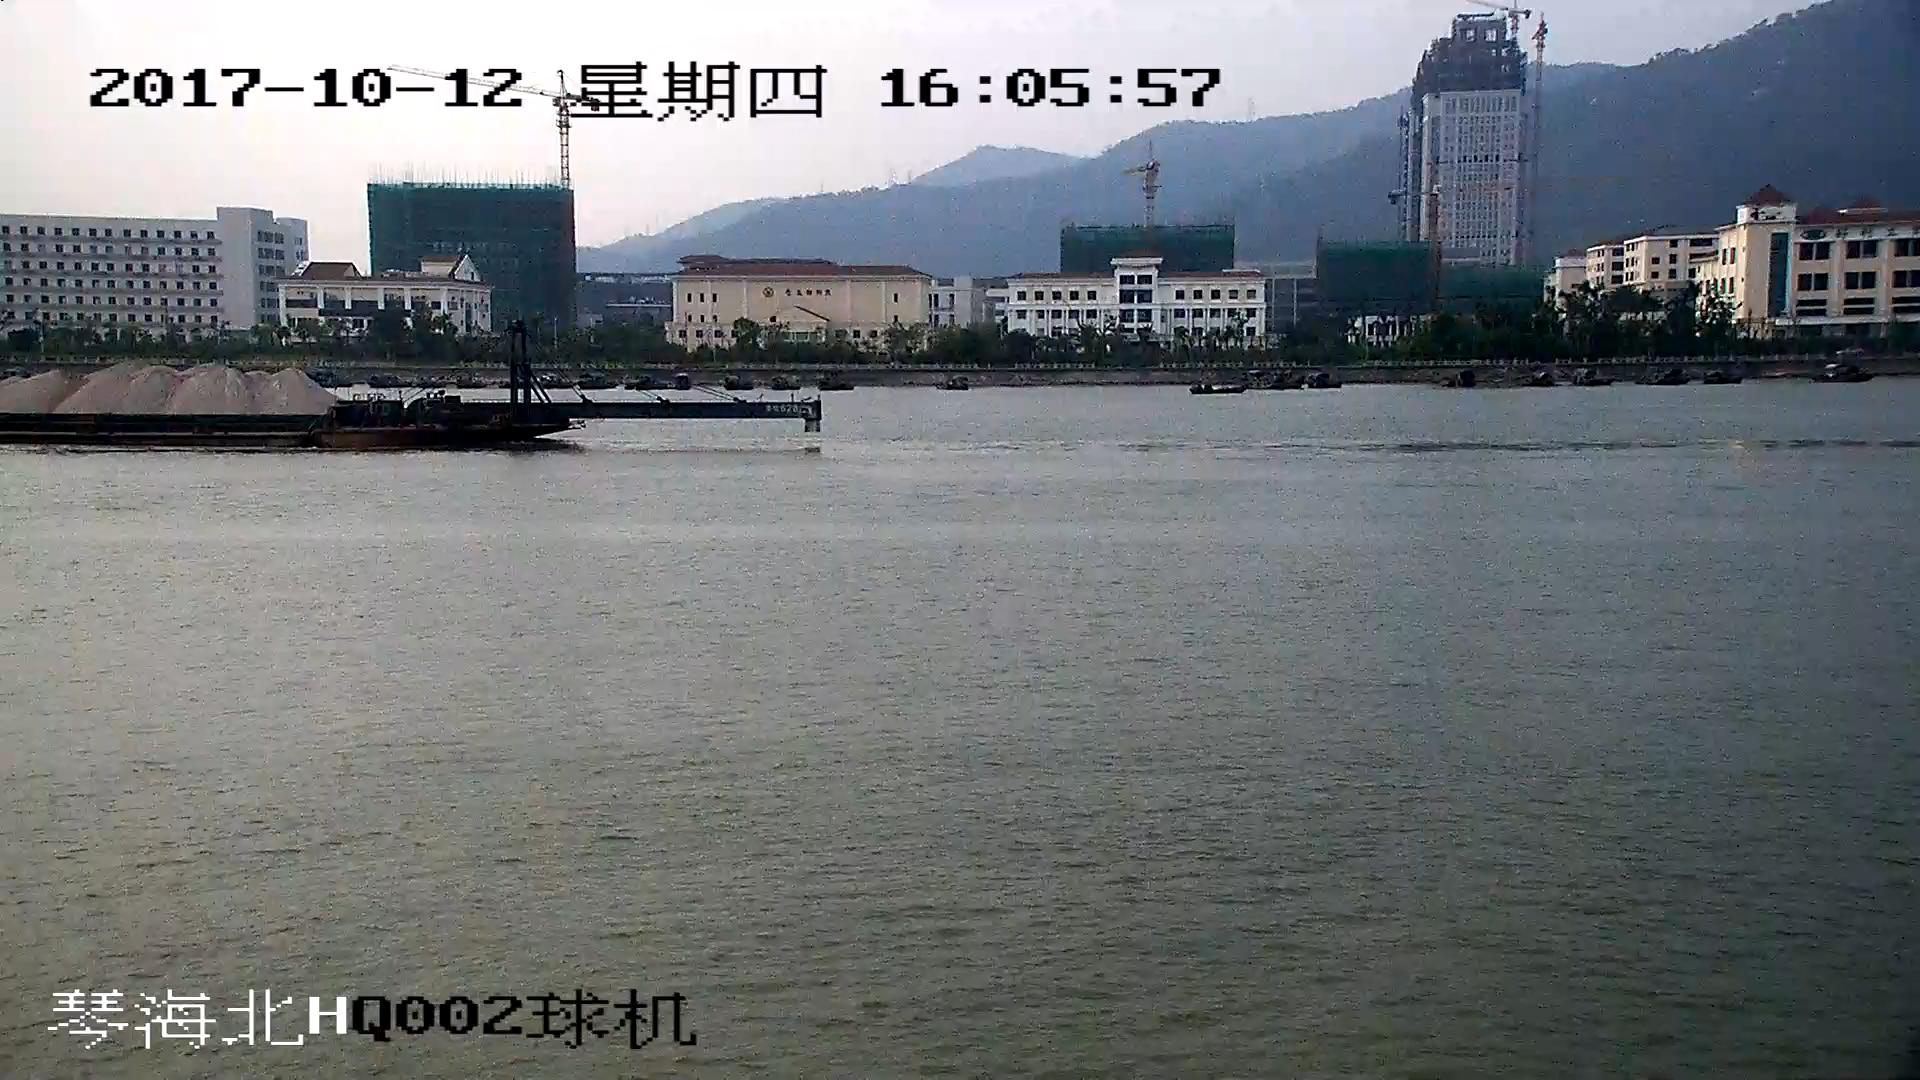ore carrier: (1, 330, 817, 455)
